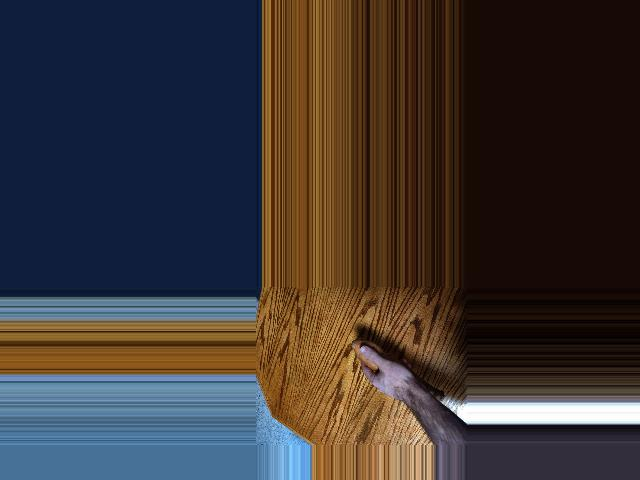sweet_potato: (350, 339, 447, 402)
